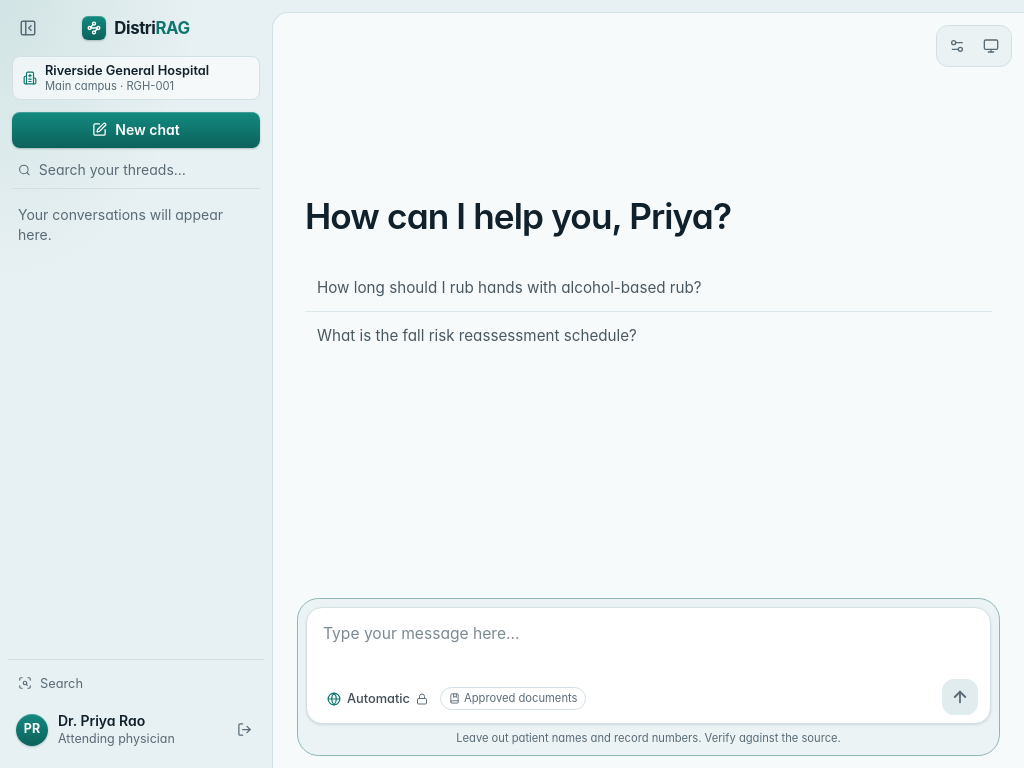
it: tokens are shown as they arrive
Type "What are our sepsis screening criteria?" into the text box named "Ask about a policy or procedure" at x=648, y=645, box [319, 618, 978, 673]
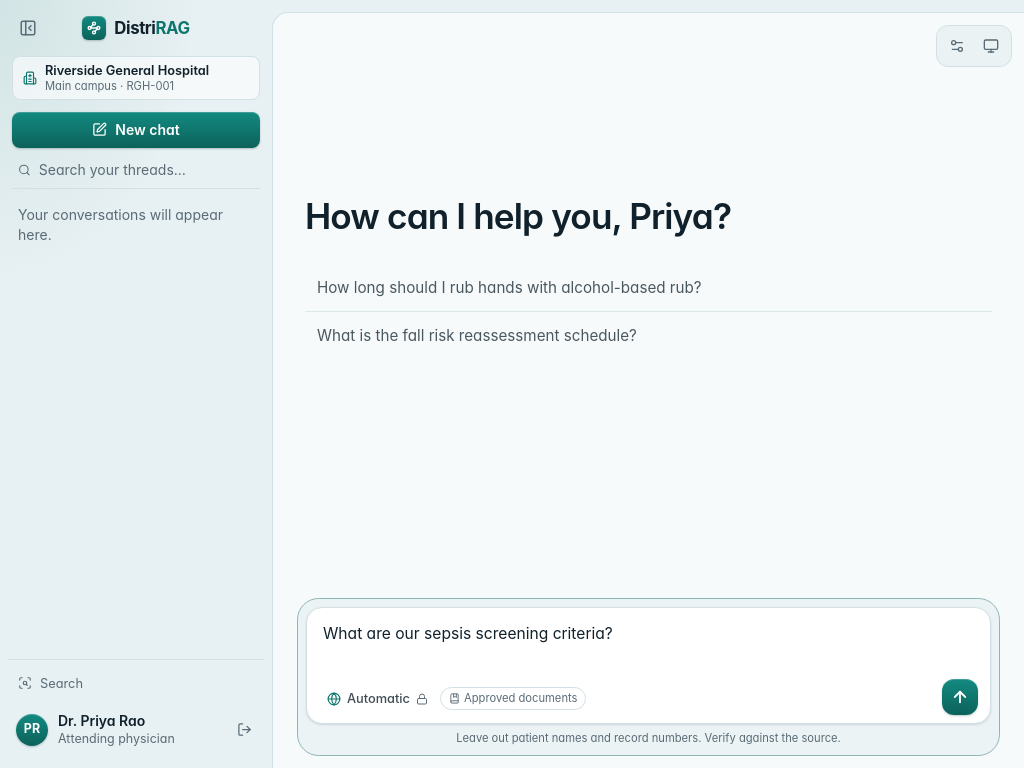
Click the button named "Ask" at x=960, y=697, box [942, 679, 978, 715]
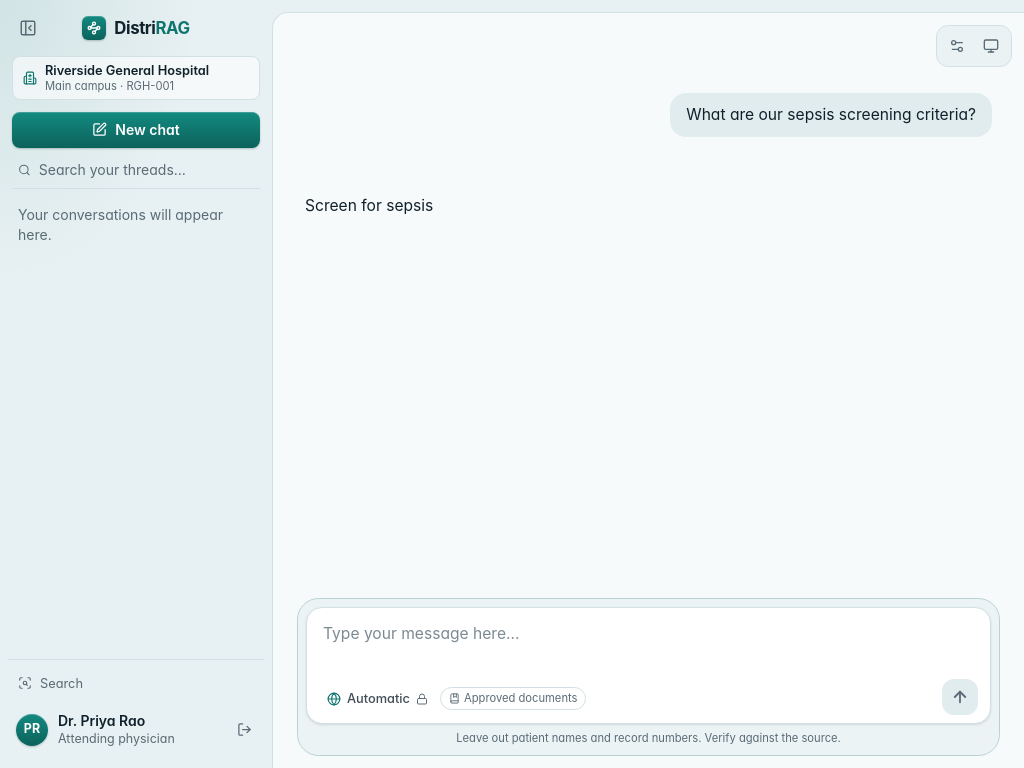
Now the element with test id "streaming" reads "Screen for sepsis", box [305, 196, 433, 215]
